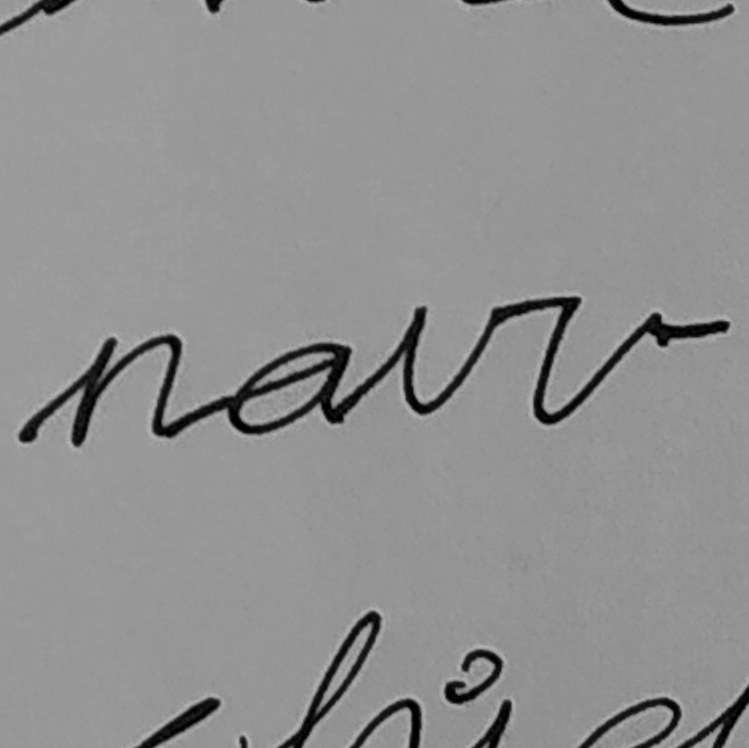a: (225, 338, 359, 441)
n: (65, 327, 186, 453)
v: (522, 291, 666, 432), (393, 297, 510, 417)
